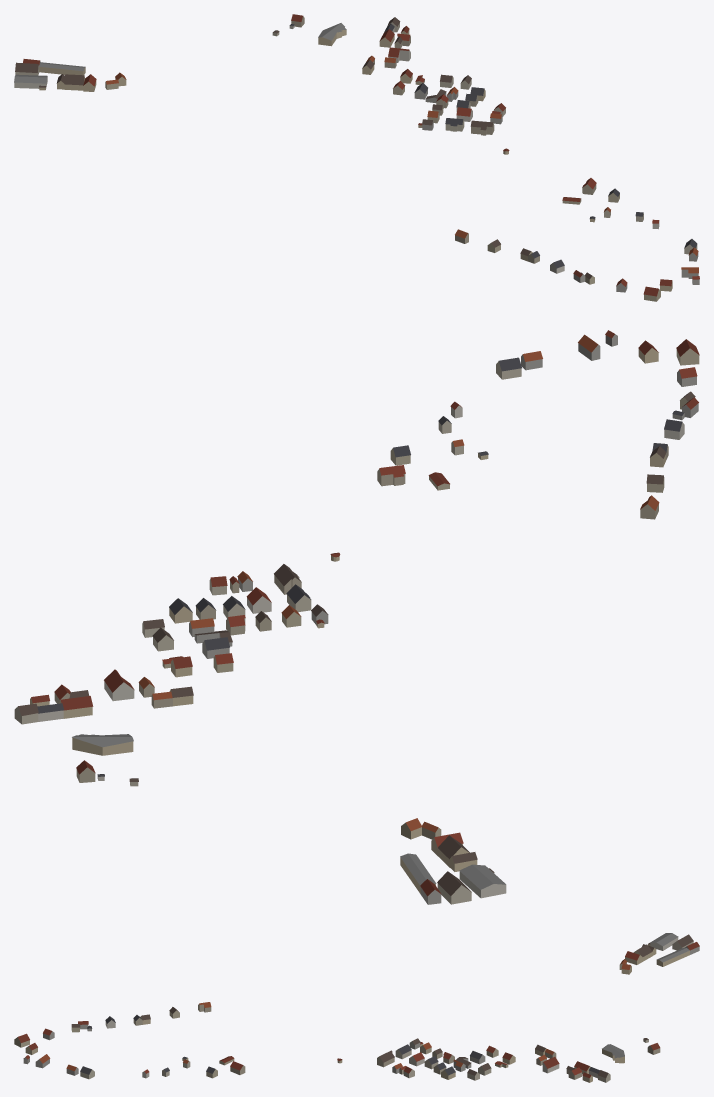
3 renders of one model, top to bottom at view 1: azimuth 30°, elevation 25°; view 2: azimuth 150°, elevation 25°; view 3: azimuth 270°, elevation 25°, orthographic. The views are drawn at different scales.
Parts seen in each view (by area): view 1: buildings; view 2: buildings; view 3: buildings.
Part boxes in pixels (box(x1,y1,x2,y2)): buildings: box(14, 14, 699, 301); buildings: box(14, 330, 699, 904); buildings: box(14, 933, 699, 1082).
Bounding box in the file's own units: 389 × 14.13 × 771.
